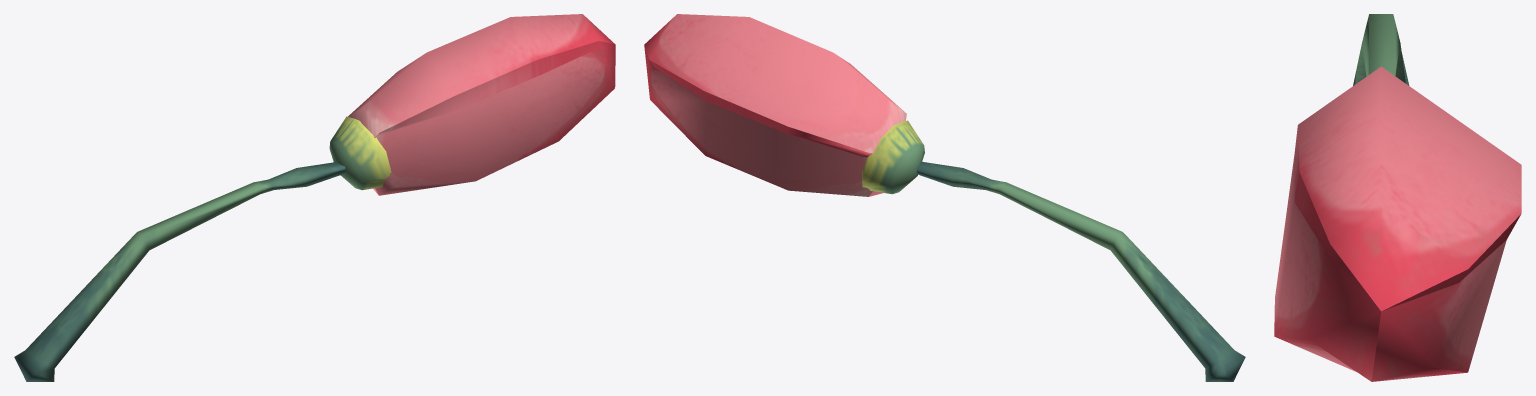
File: bud_flowerPink.fbx
3 renders of one model, left to right at view 1: azimuth 30°, elevation 25°; view 2: azimuth 150°, elevation 25°; view 3: azimuth 270°, elevation 25°, orthographic. The views are drawn at different scales.
Visible parts, largest first — view 1: bud_flowerPink; view 2: bud_flowerPink; view 3: bud_flowerPink.
Part boxes in pixels (<box>): bud_flowerPink: <box>14,14,615,381</box>; bud_flowerPink: <box>644,14,1245,381</box>; bud_flowerPink: <box>1274,14,1521,381</box>.
Size of the model in its own units: 0.5512 by 0.2202 by 0.1066.
